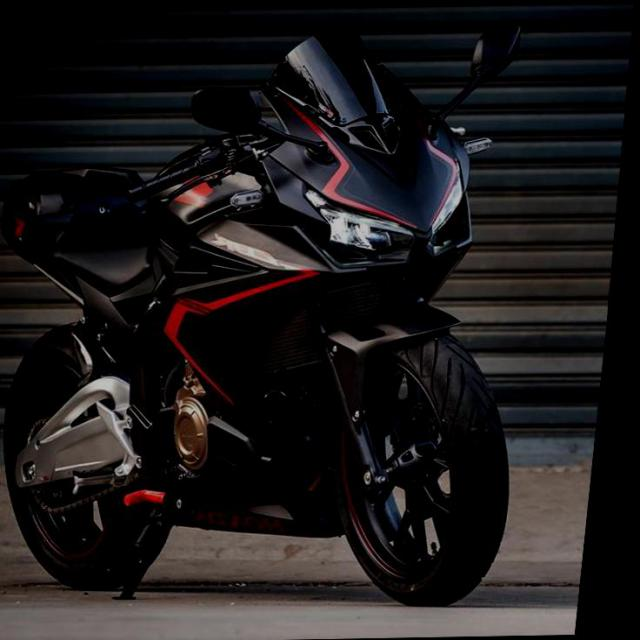CBR500R: (0, 18, 563, 615)
